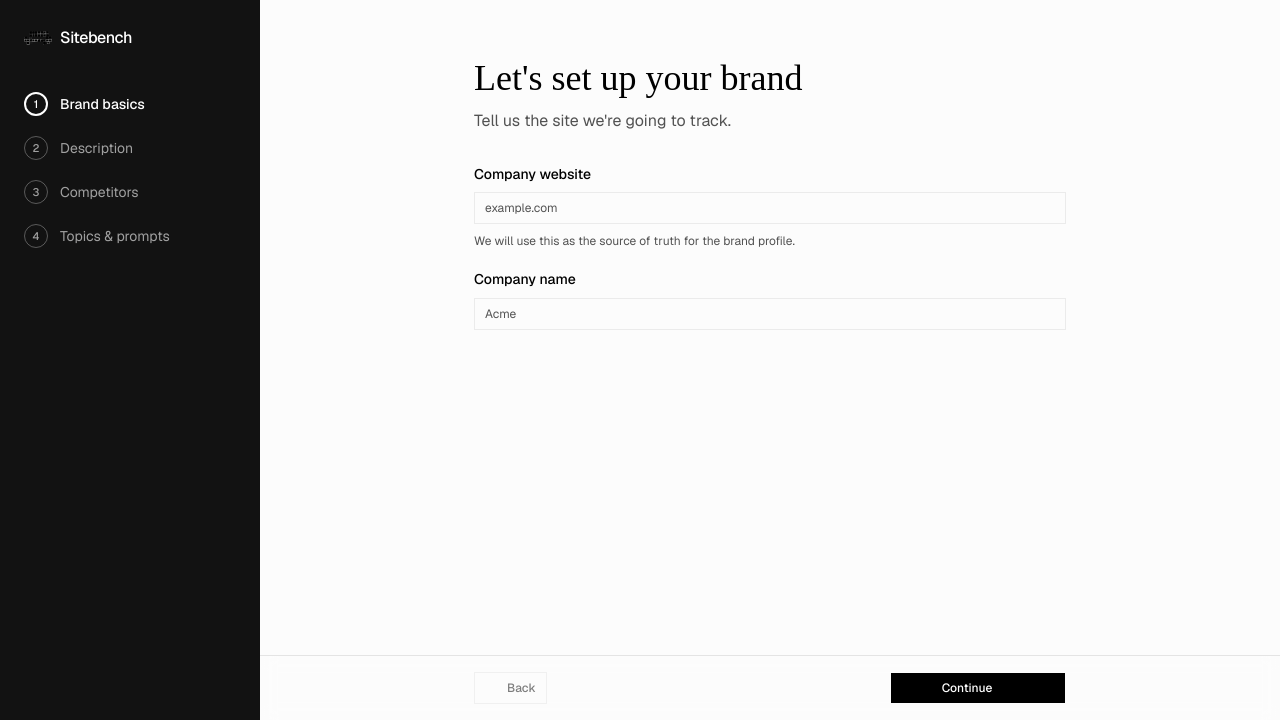
Test: Onboarding wizard › blocks malformed brand details on step 1
In the field labelled "Company website": (770, 208) [474, 192, 1066, 224], type "foo"
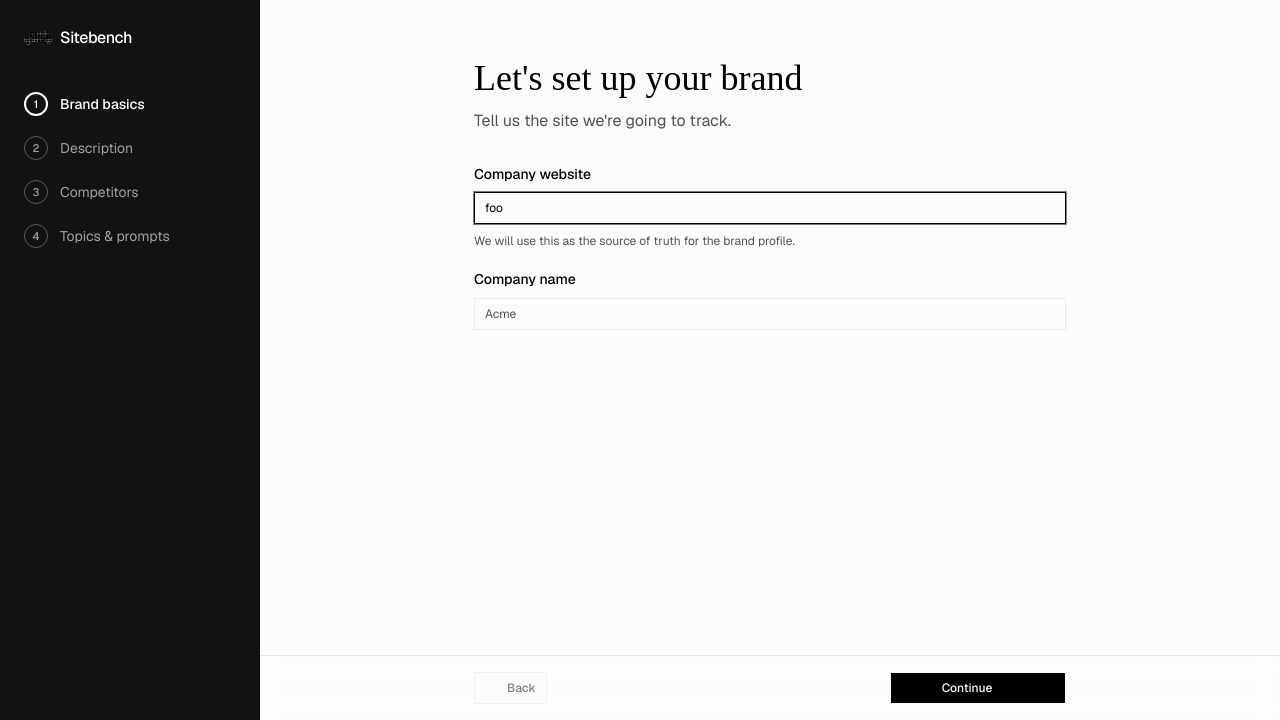
In the field labelled "Company name": (770, 314) [474, 298, 1066, 330], type "acme.com"
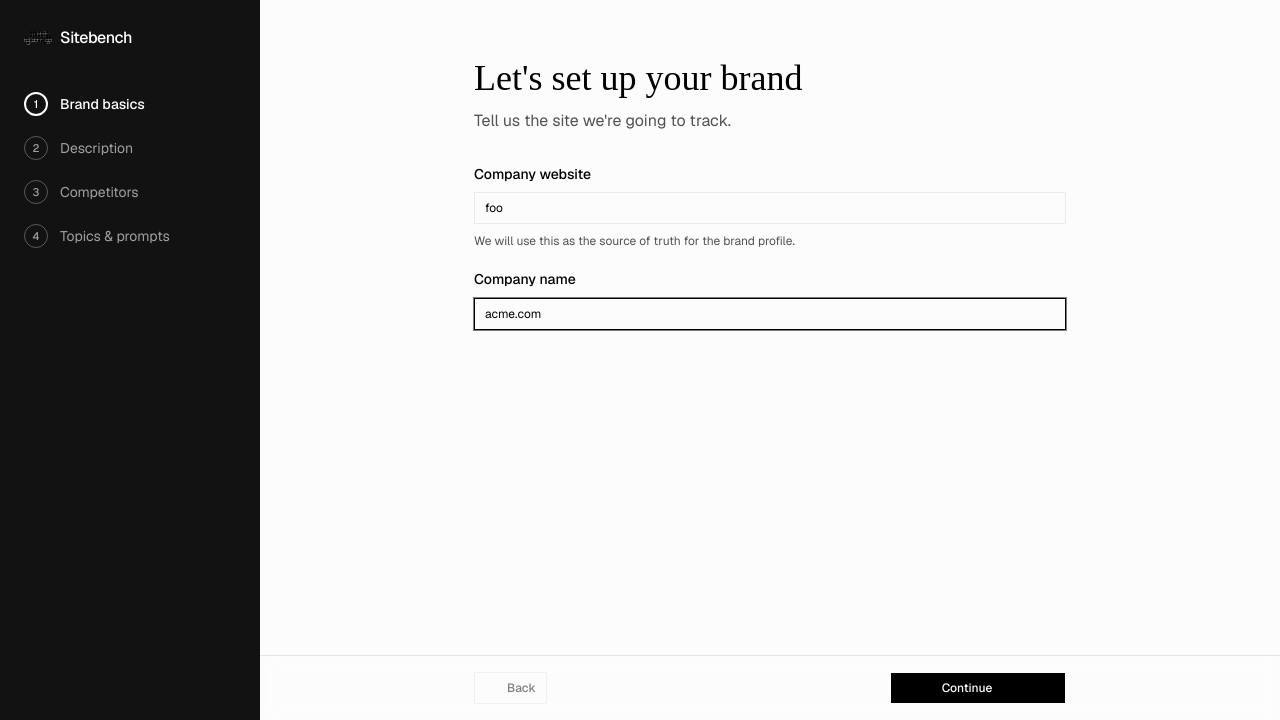
Click the button "Continue": (978, 688) [890, 672, 1066, 704]
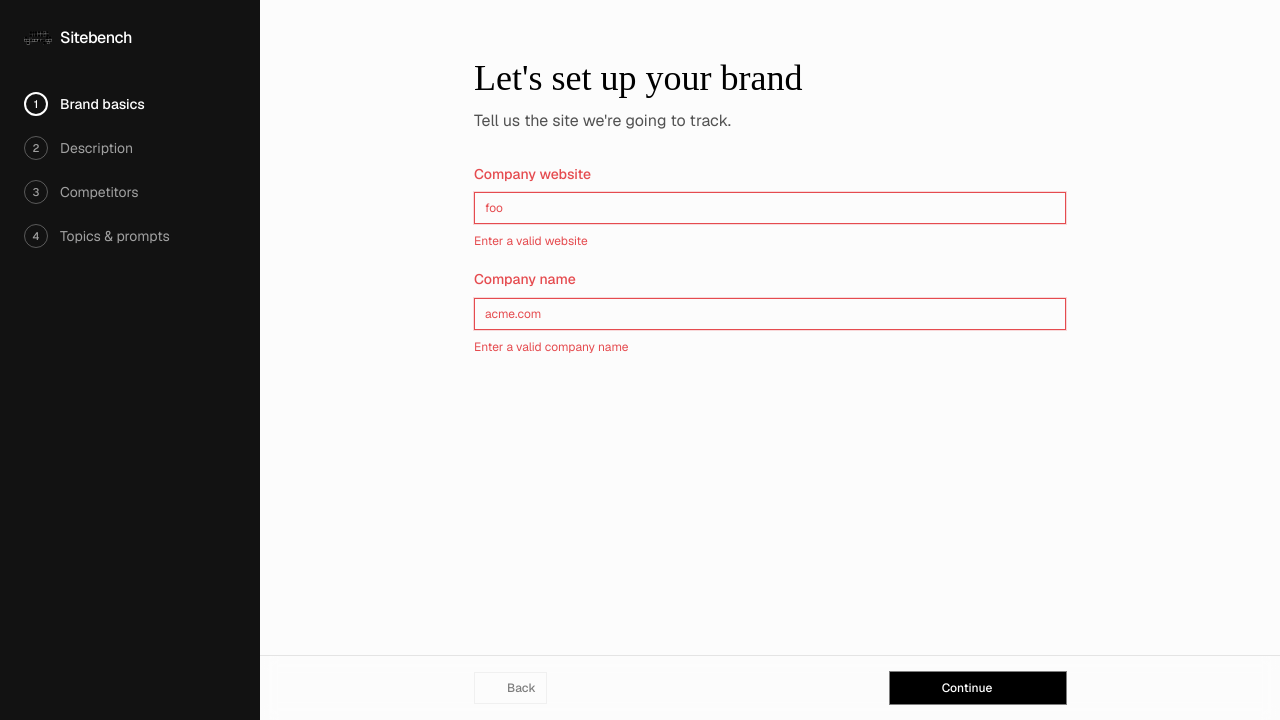
Now the text "Enter a valid website" is shown, box [474, 233, 588, 249]
Now the text "Enter a valid company name" is shown, box [474, 338, 628, 354]
